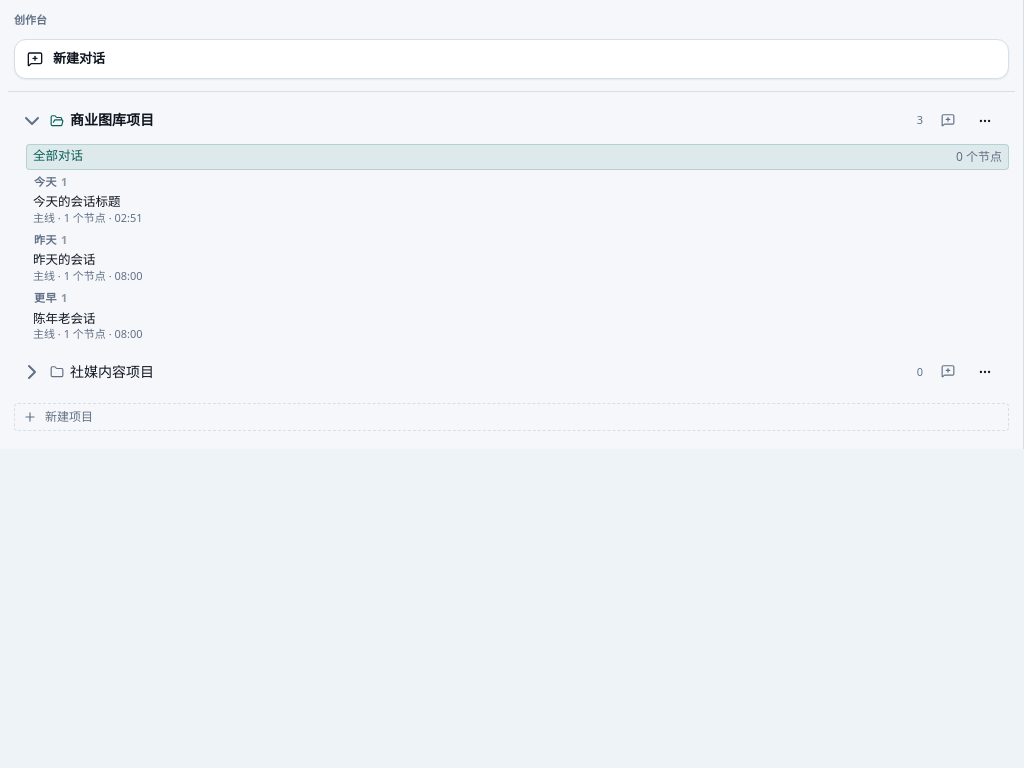
Scenario: ProjectSidebar (flat collapsible cards) › opens the new-project dialog when 「+ 新建项目」 is clicked
Click the button with test id "new-project-button": (69, 417) [14,403,1009,431]
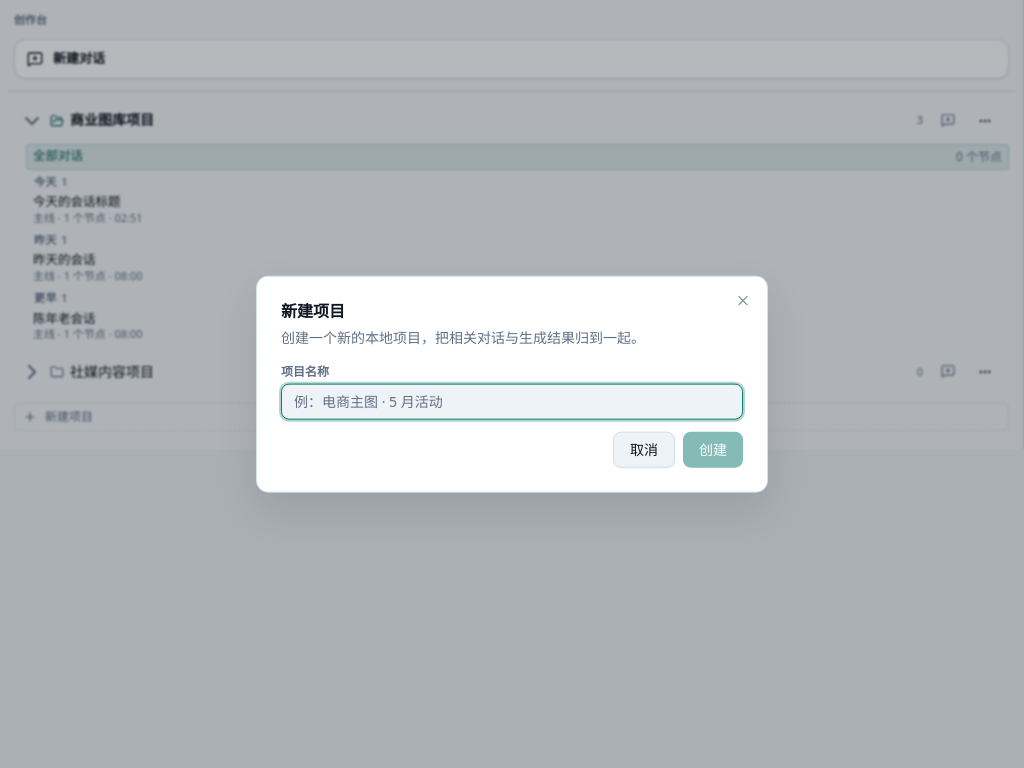
Expected: the dialog with test id "new-project-dialog" is shown, [256,276,768,492]
